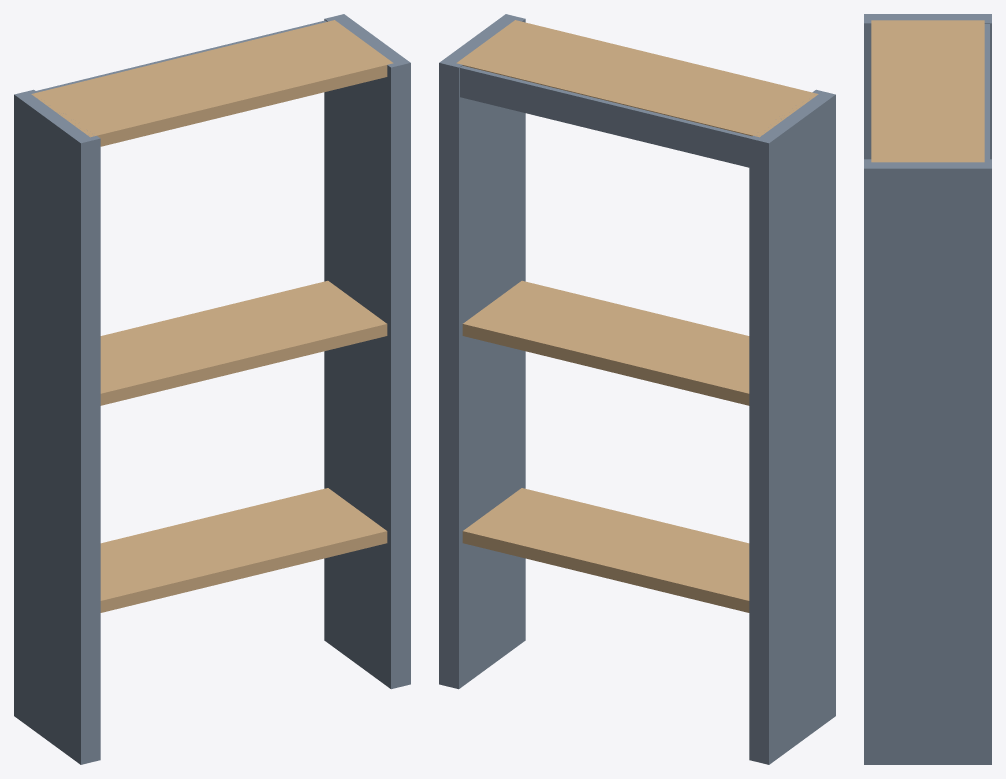
3 views of the same model, side by side, from view 1: azimuth 30°, elevation 25°; view 2: azimuth 150°, elevation 25°; view 3: azimuth 270°, elevation 25° (orthographic). The views are drawn at different scales.
Visible parts, largest first — view 1: sideboard-left, sideboard-right, shelf-board-top, shelf-board-lower, shelf-board-middle, sideboard-top-tie; view 2: sideboard-left, sideboard-right, shelf-board-lower, shelf-board-middle, shelf-board-top, sideboard-rear-rail, sideboard-top-tie; view 3: sideboard-right, shelf-board-top, sideboard-left, sideboard-top-tie.
Boxes of the visible parts, x1,y1,x2,y2 form: sideboard-left: (14, 89, 100, 764); sideboard-right: (324, 14, 410, 689); shelf-board-top: (31, 20, 393, 146); shelf-board-lower: (100, 488, 387, 612); shelf-board-middle: (100, 280, 387, 405); sideboard-top-tie: (36, 20, 326, 92); sideboard-left: (749, 89, 835, 764); sideboard-right: (439, 14, 525, 689); shelf-board-lower: (462, 488, 749, 612); shelf-board-middle: (462, 280, 749, 405); shelf-board-top: (456, 20, 818, 137); sideboard-rear-rail: (460, 78, 749, 167); sideboard-top-tie: (460, 66, 751, 148); sideboard-right: (864, 159, 991, 764); shelf-board-top: (871, 20, 984, 162); sideboard-left: (864, 14, 991, 159); sideboard-top-tie: (984, 24, 989, 159).
Bounding box in the file's own units: 1 × 1.8 × 0.35.
